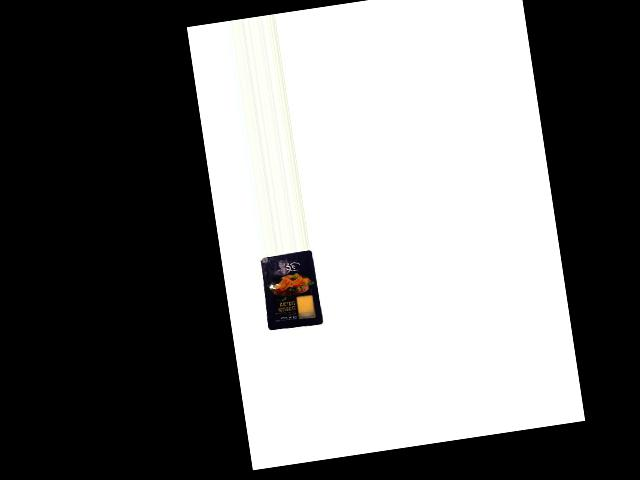cheese: (256, 249, 323, 332)
